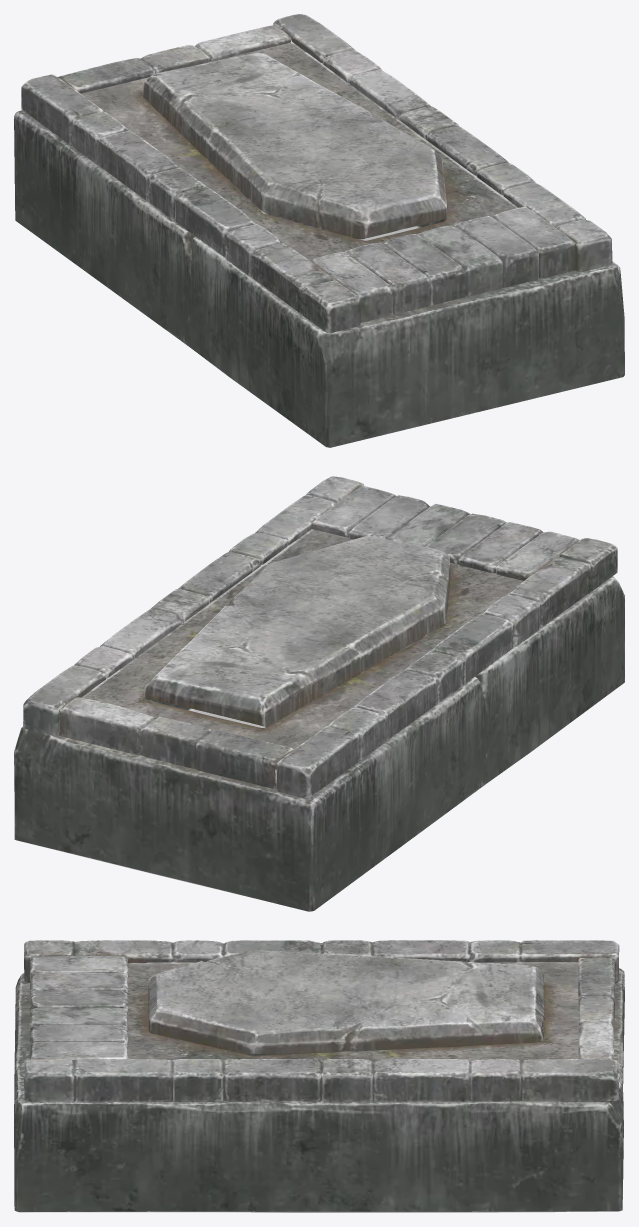
3 renders of one model, top to bottom at view 1: azimuth 30°, elevation 25°; view 2: azimuth 150°, elevation 25°; view 3: azimuth 270°, elevation 25°, orthographic. The views are drawn at different scales.
Parts seen in each view (by area): view 1: SM_Tombstone_Stone_Base_03_LOD0; view 2: SM_Tombstone_Stone_Base_03_LOD0; view 3: SM_Tombstone_Stone_Base_03_LOD0.
Boxes of the visible parts, x1,y1,x2,y2 form: SM_Tombstone_Stone_Base_03_LOD0: [14, 14, 624, 447]; SM_Tombstone_Stone_Base_03_LOD0: [14, 476, 624, 911]; SM_Tombstone_Stone_Base_03_LOD0: [14, 940, 624, 1212].
Bounding box in the file's own units: 2.02 × 1.04 × 3.67.
